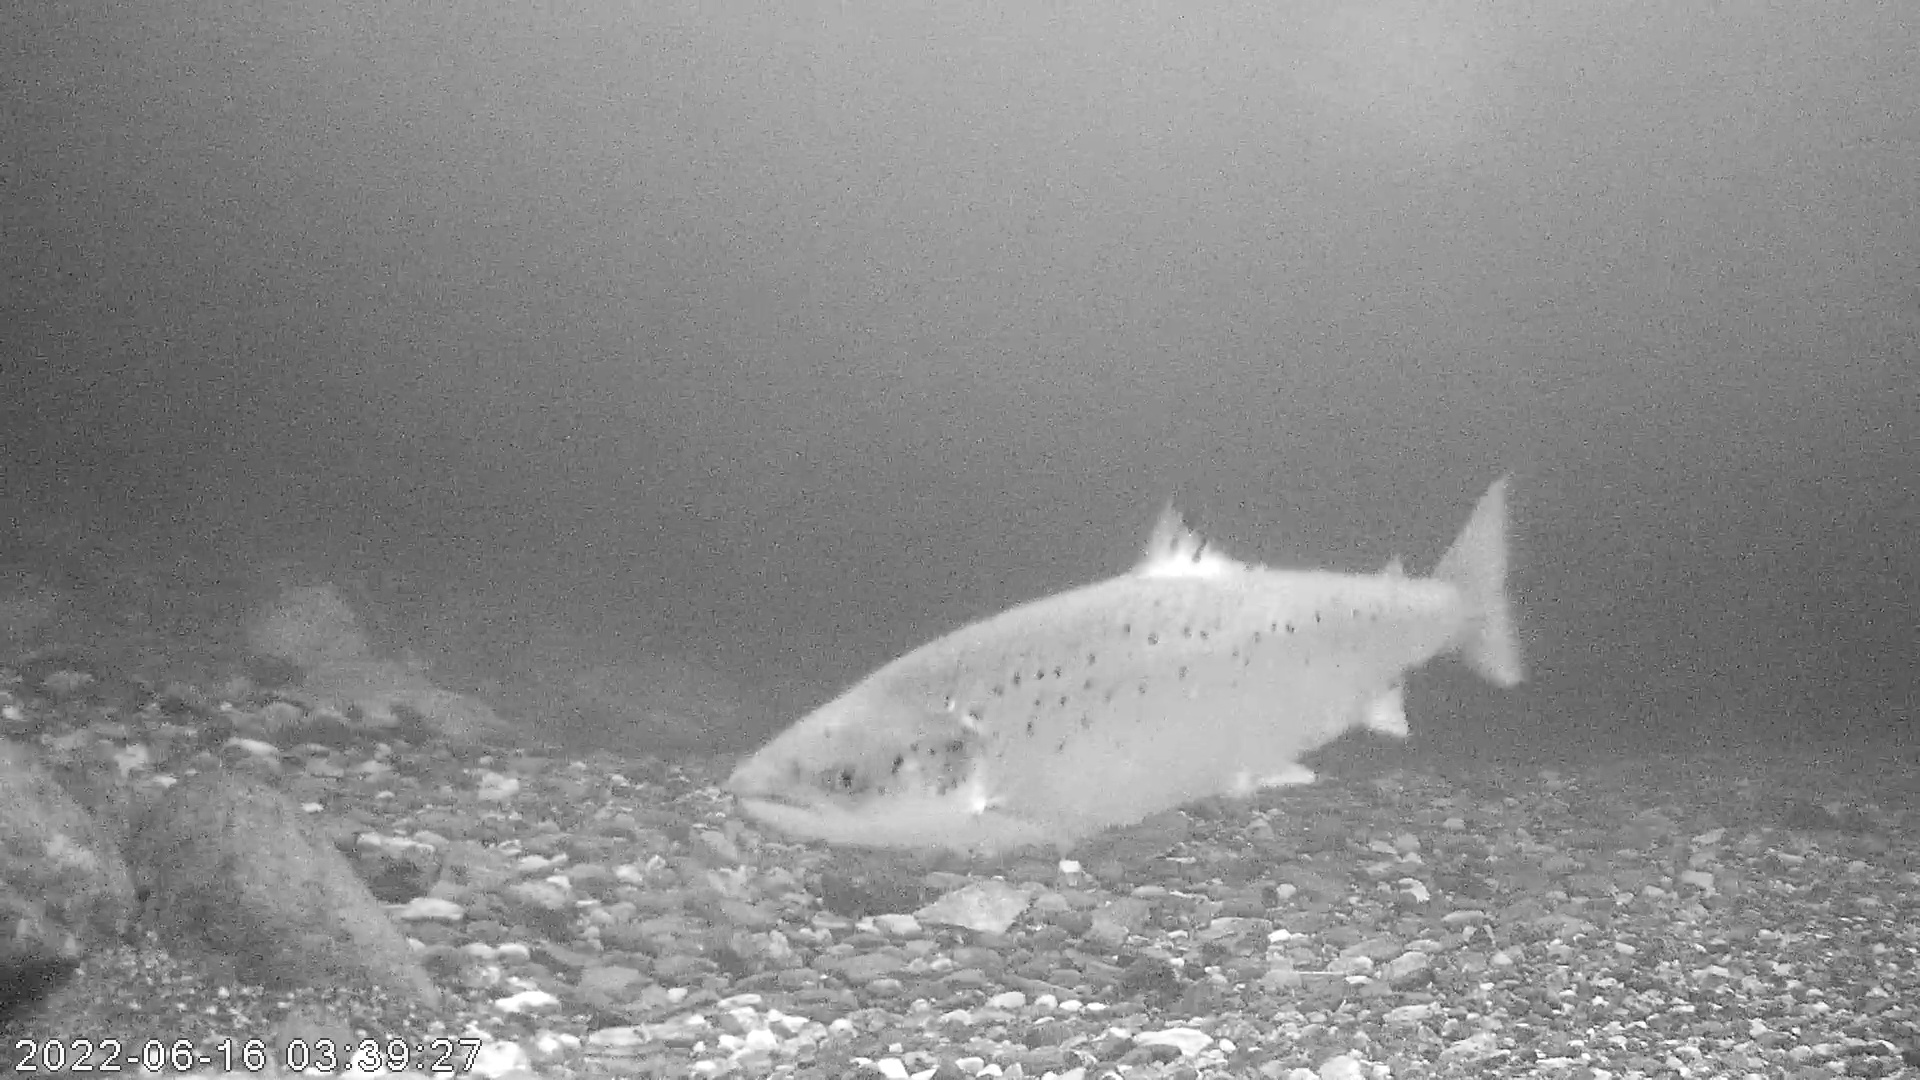salmon: (725, 471, 1528, 851)
